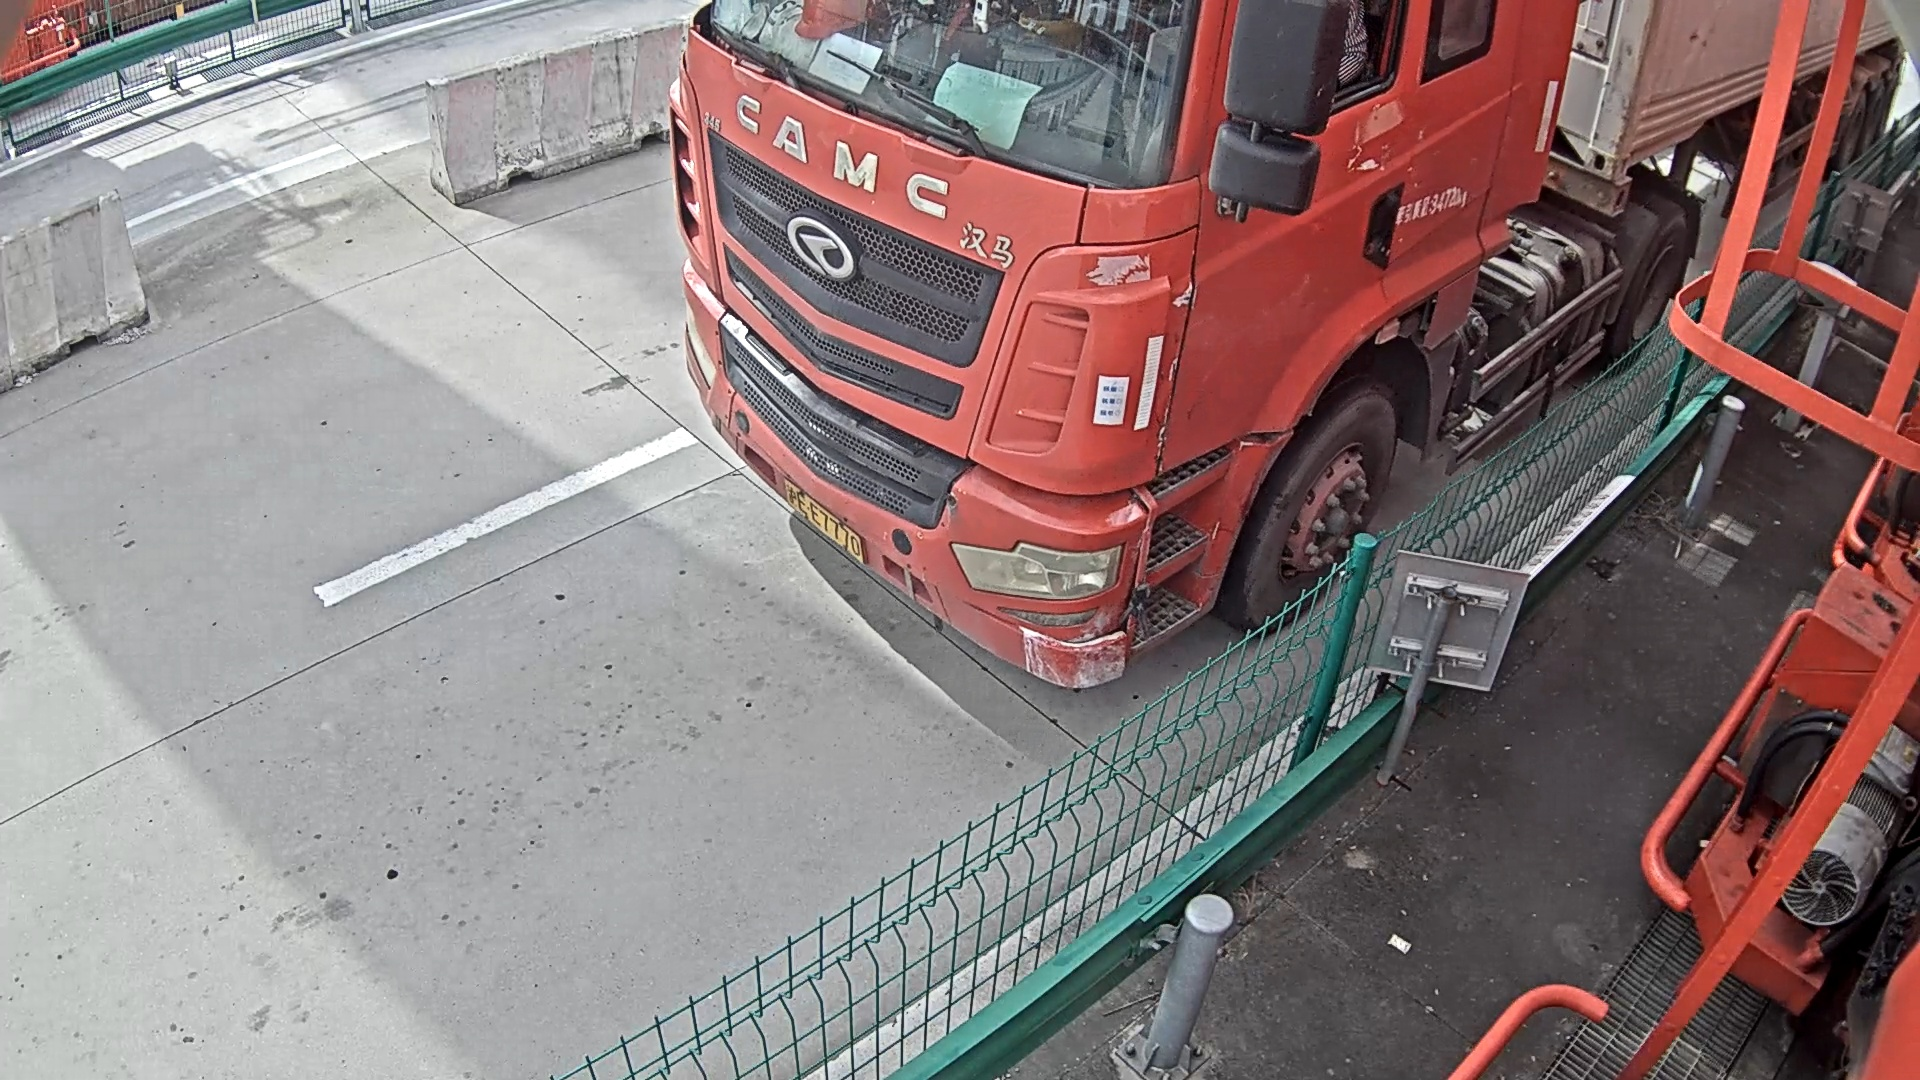head: (668, 1, 1573, 688)
plate: (781, 483, 862, 566)
